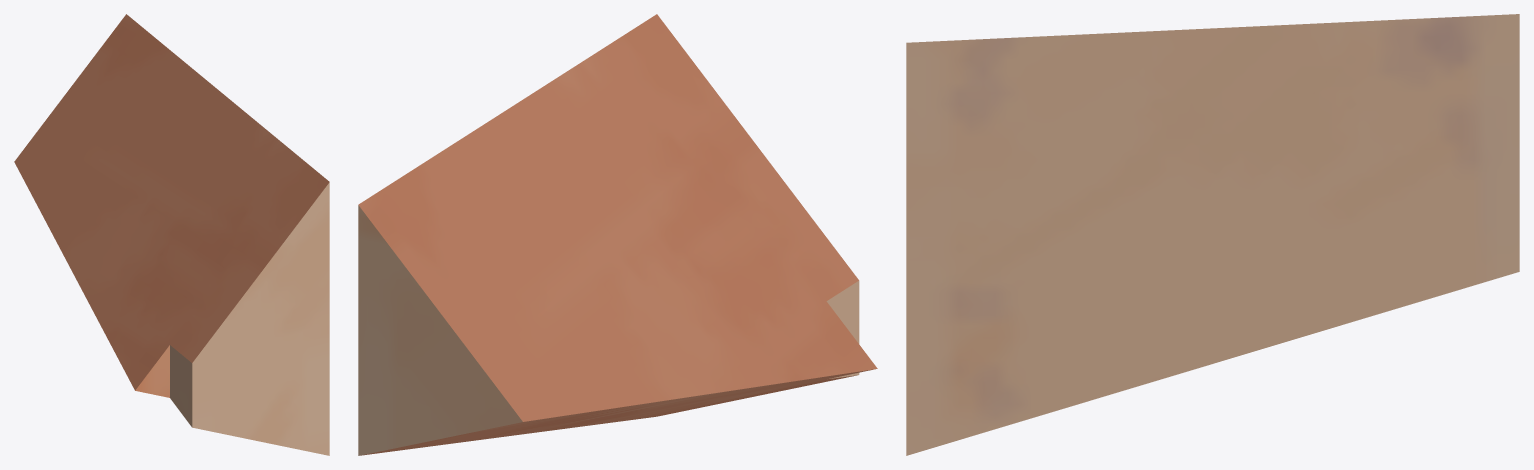
The model's file is wall2_door_s00.fbx.
3 renders of one model, left to right at view 1: azimuth 30°, elevation 25°; view 2: azimuth 150°, elevation 25°; view 3: azimuth 270°, elevation 25°, orthographic. The views are drawn at different scales.
Visible parts, largest first — view 1: wall2_door_s00; view 2: wall2_door_s00; view 3: wall2_door_s00.
Part boxes in pixels (x1,y1,x2,y2): wall2_door_s00: (14,14,329,455); wall2_door_s00: (358,14,877,455); wall2_door_s00: (906,14,1519,455).
Bounding box in the file's own units: 0.6267 × 1.02 × 1.28.
